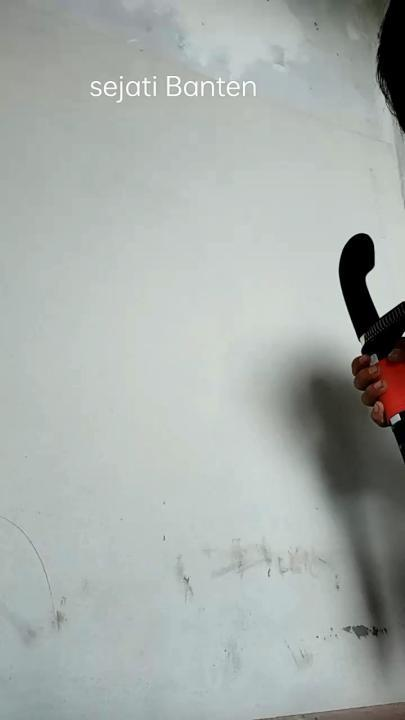facao: (327, 214, 405, 470)
